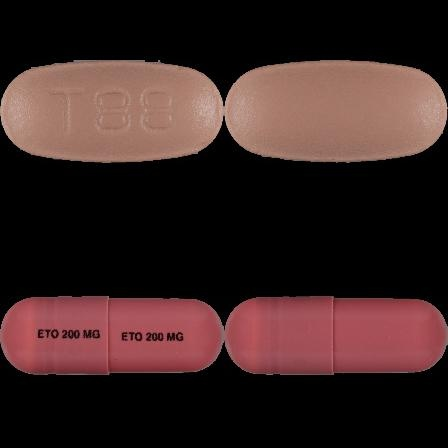0179-1497: (0, 0, 224, 224)
